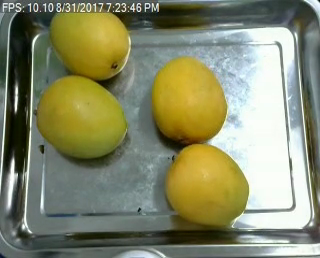Mango: (36, 75, 126, 159), (164, 144, 250, 223), (153, 56, 227, 142), (49, 4, 130, 79)
